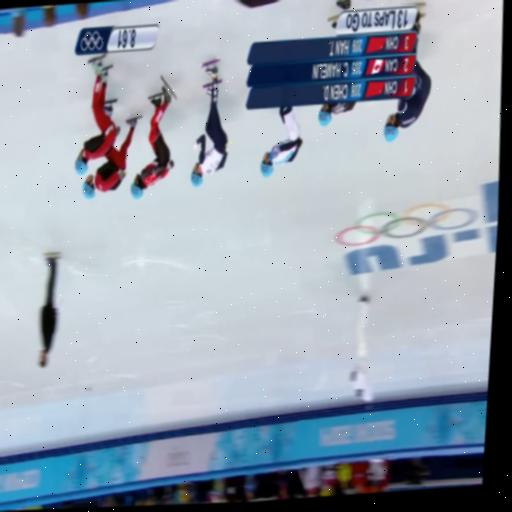Skater: (130, 79, 175, 198), (74, 55, 115, 174), (190, 59, 228, 185), (81, 116, 139, 198), (383, 58, 429, 141), (260, 106, 301, 176), (317, 102, 355, 126)
